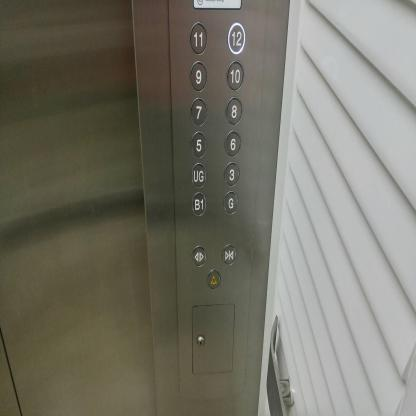10: (225, 58, 244, 92)
11: (188, 19, 208, 56)
12: (226, 20, 246, 56)
3: (223, 160, 240, 188)
5: (189, 128, 207, 159)
6: (223, 128, 242, 158)
7: (189, 94, 207, 127)
8: (224, 94, 242, 126)
9: (188, 58, 207, 93)
B1: (190, 190, 207, 217)
G: (222, 188, 238, 216)
UG: (190, 160, 206, 189)
alarm: (206, 267, 221, 291)
close: (221, 242, 236, 267)
keyhole: (196, 332, 206, 350)
open: (191, 243, 206, 268)
